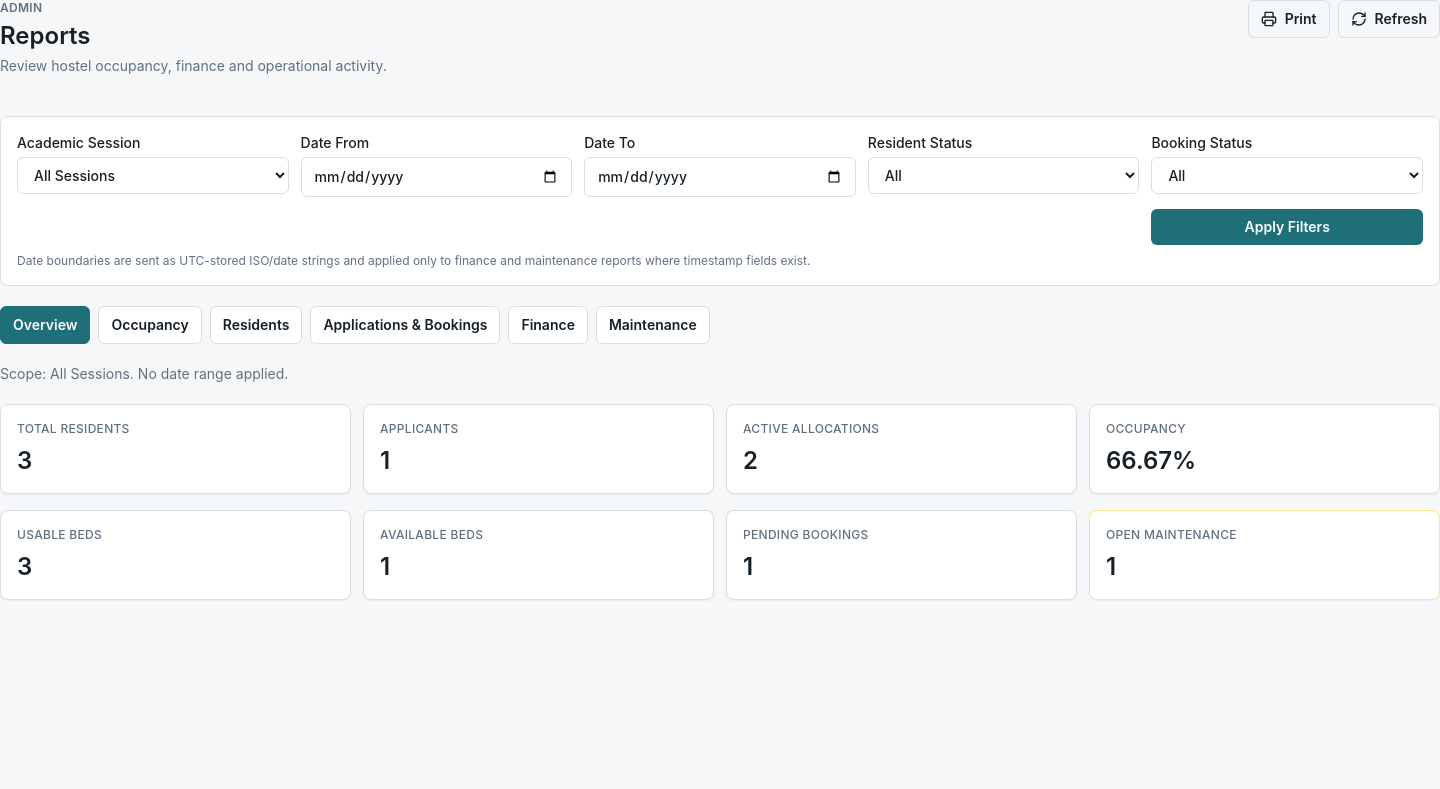
it: ReportsPage › renders resident application booking finance and maintenance sections
Step 1. Click the button "Residents" → coordinates (256, 325), box [210,306,302,344]
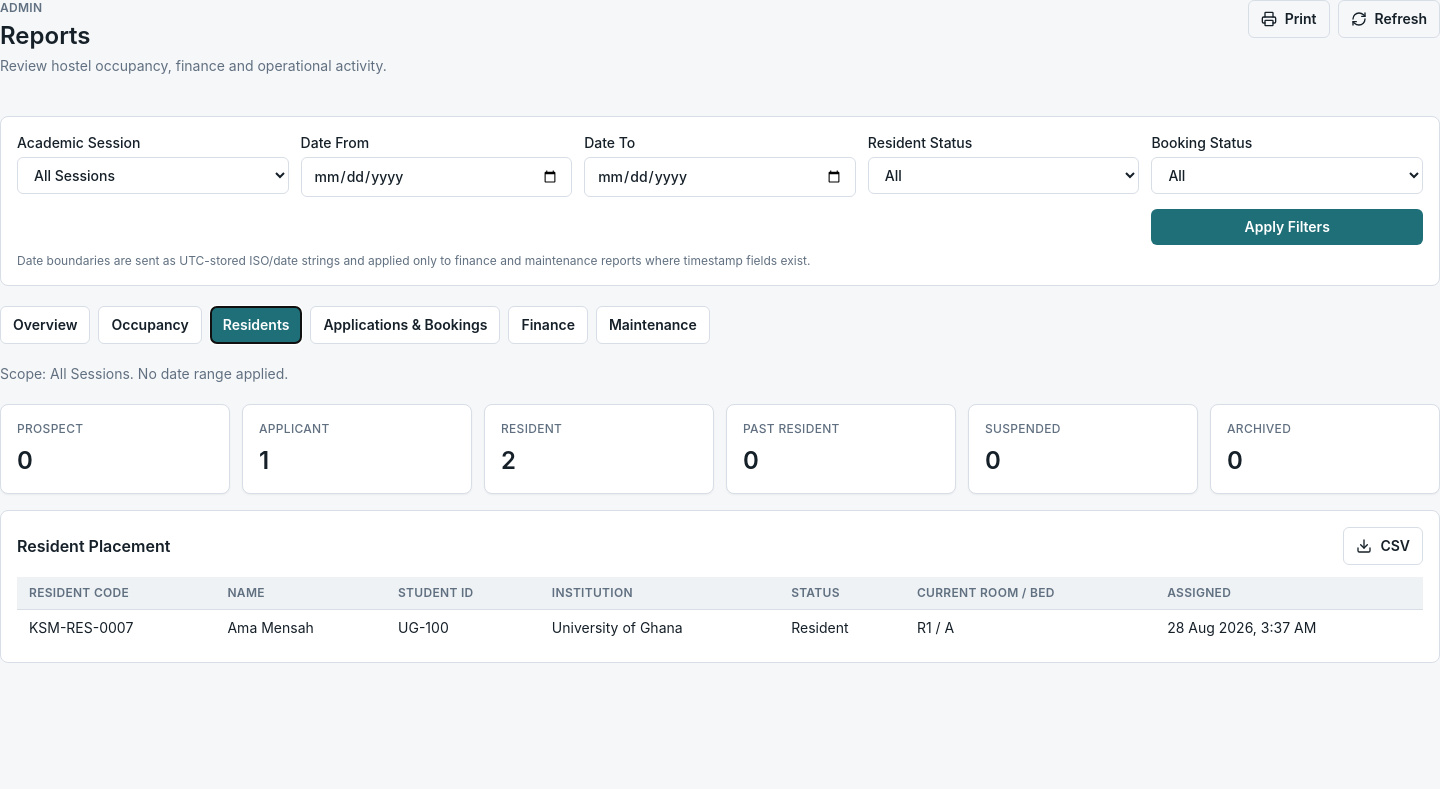
Result: the text "KSM-RES-0007" is shown at [17,610,216,646]
Step 2. Click the button "Applications & Bookings" → coordinates (405, 325), box [310,306,500,344]
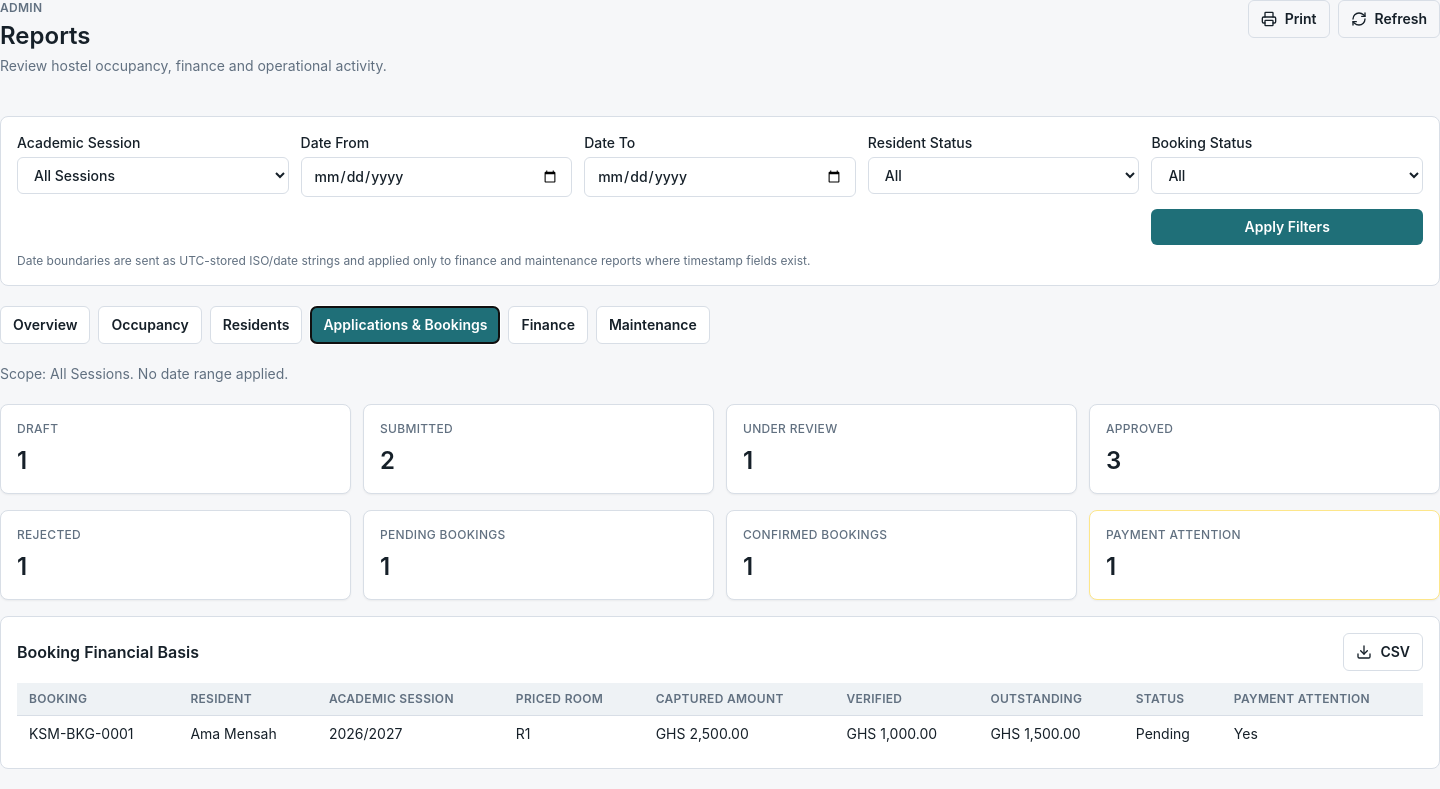
Result: the text "KSM-BKG-0001" is shown at [17,716,178,752]
Result: the text "GHS 2,500.00" is shown at [644,716,834,752]
Step 3. Click the button "Finance" → coordinates (548, 325), box [508,306,588,344]
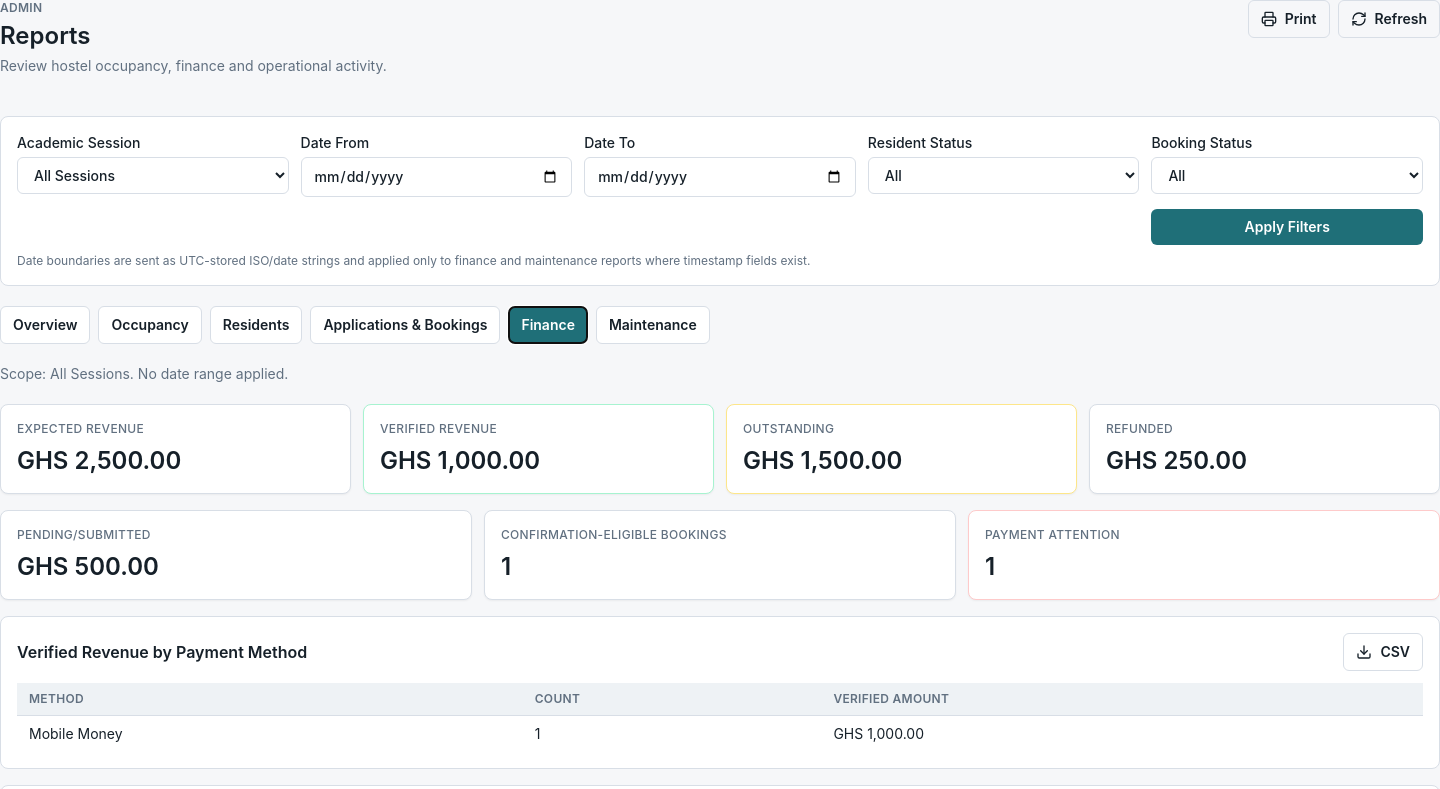
Result: the heading "Verified Revenue by Payment Method" is shown at [17,640,307,664]
Result: the text "GHS 1,000.00" is shown at [380,446,540,475]
Step 4. Click the button "Maintenance" → coordinates (653, 325), box [596,306,710,344]
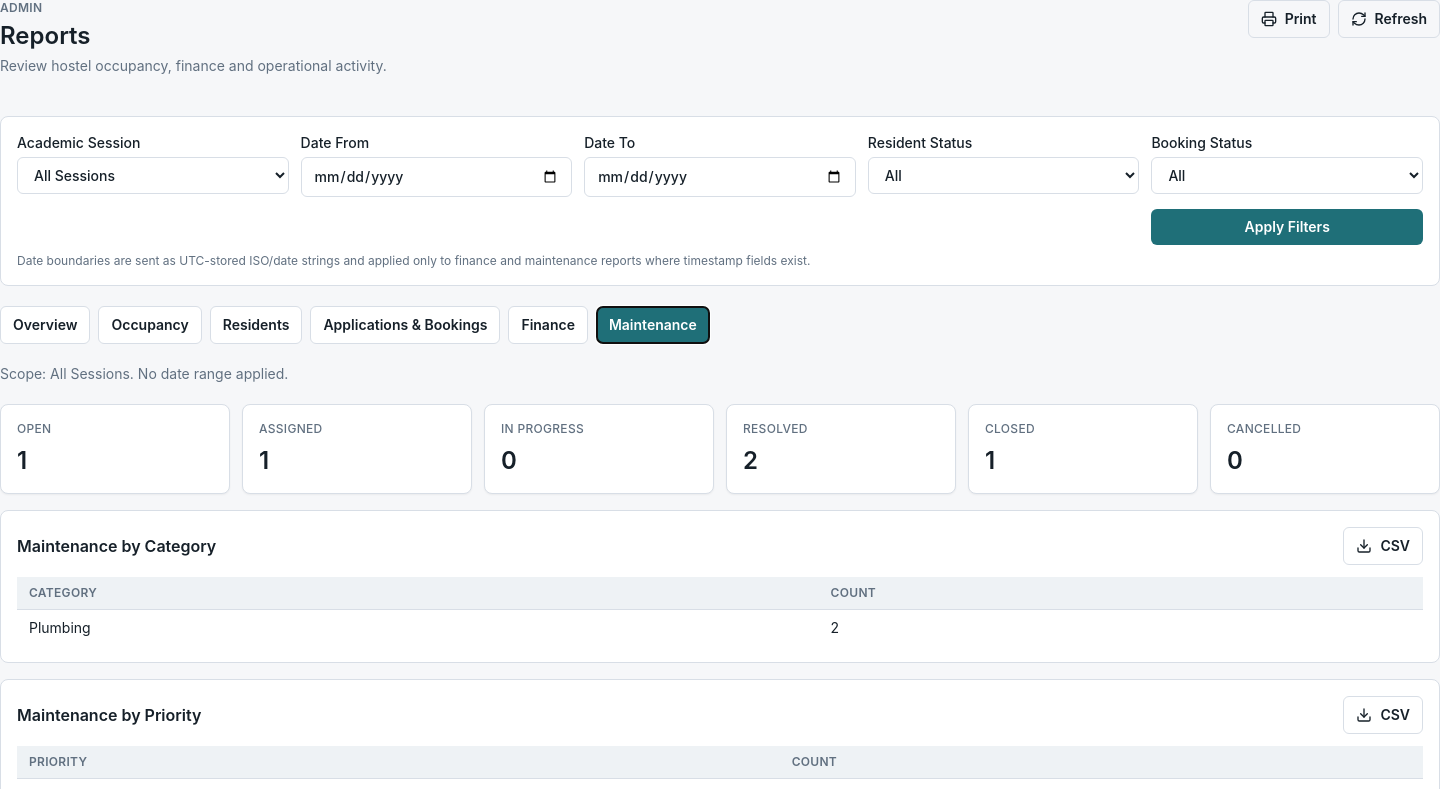
Result: the heading "Maintenance by Category" is shown at [17,534,216,558]
Result: the text "Plumbing" is shown at [17,610,819,646]
